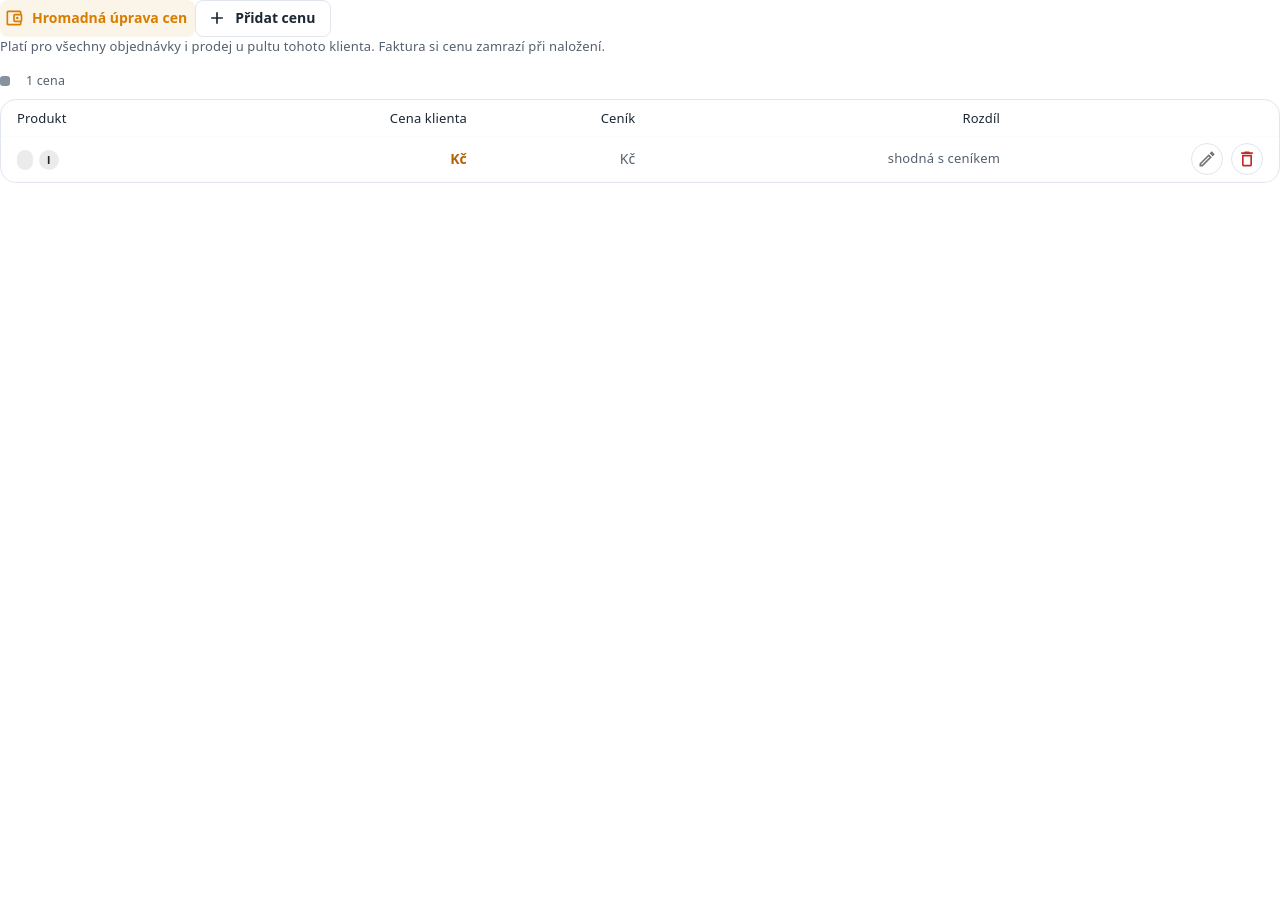
Scenario: ProductPricesPanel price drawer › still shows the client name when editing an existing price
The image size is (1280, 900).
What coordinates should you click on to do the following:
click the button named "Upravit cenu"
I would click on:
 (1207, 159)
Its box is [1191, 143, 1223, 175].
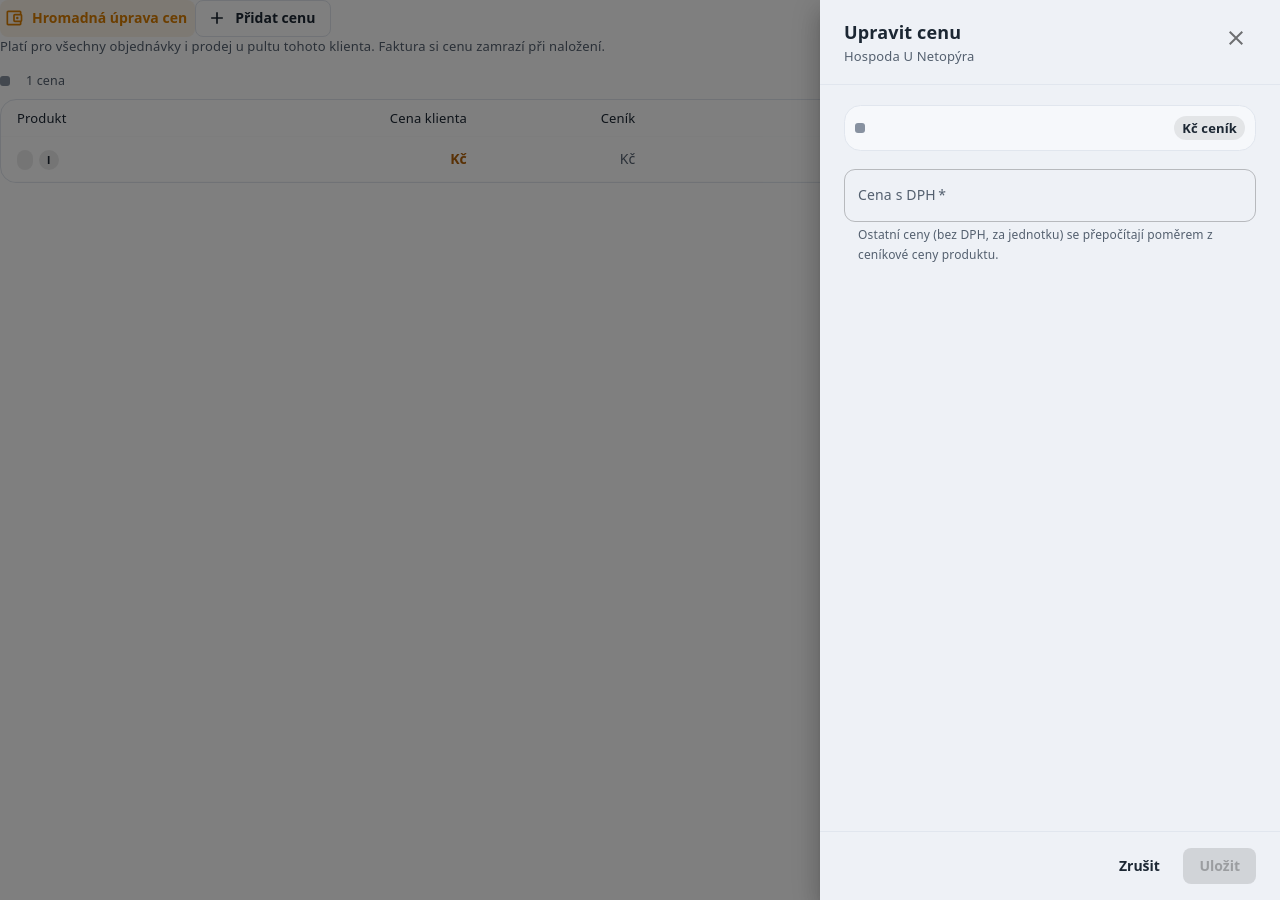
Expected: the text "Hospoda U Netopýra" is shown, [844, 47, 974, 65]
